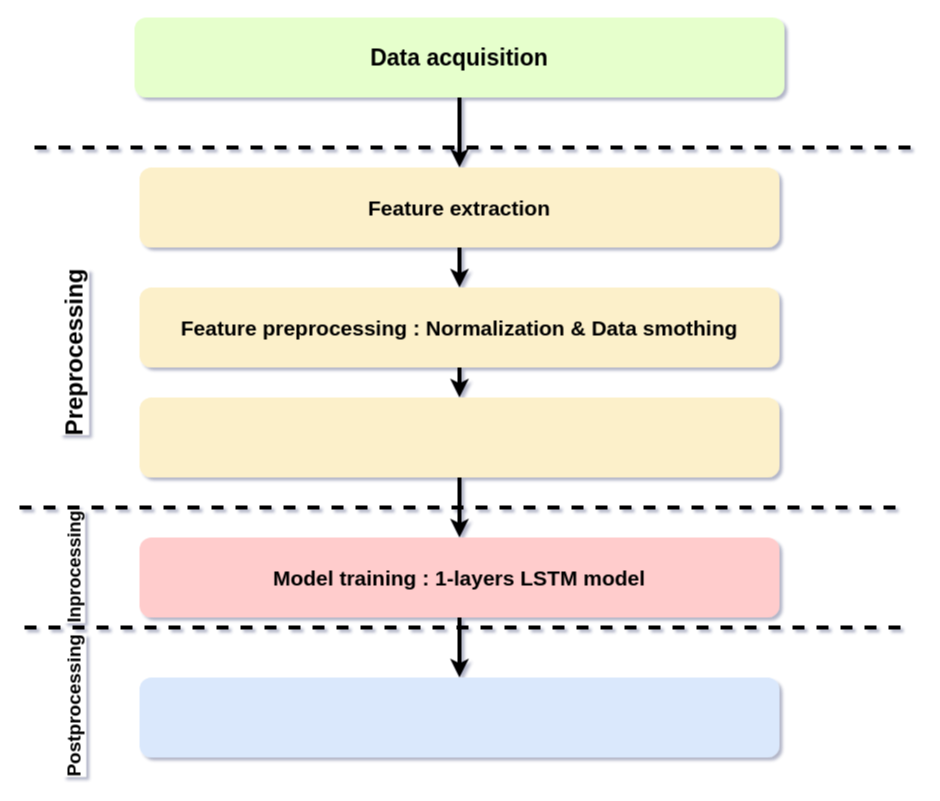
The diagram is 940 pixels wide and 801 high, and some of its shapes have lost their labels. The box of each missing label's shape, as (x1, y1, x2, y2) in pixels:
IDFC (dimensional reduction): (139, 397, 779, 477)
Model explanation : XAI method - based (SHAP): (139, 677, 779, 757)
